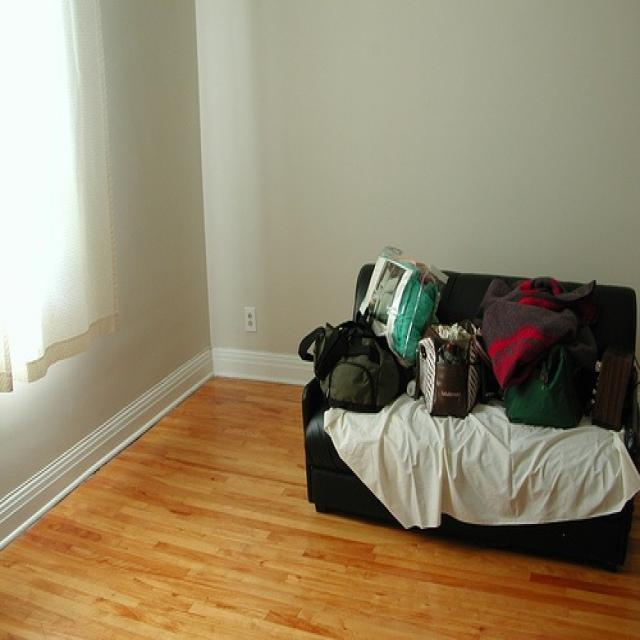sofa: (297, 260, 639, 574)
